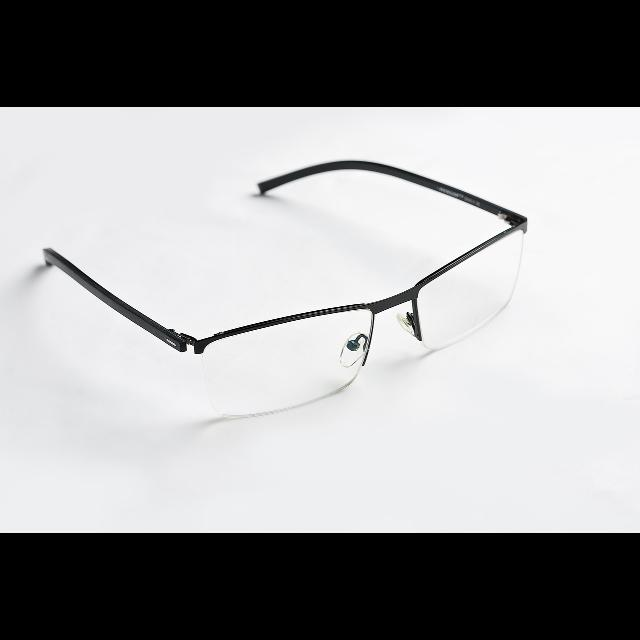glasses: (47, 158, 530, 418)
